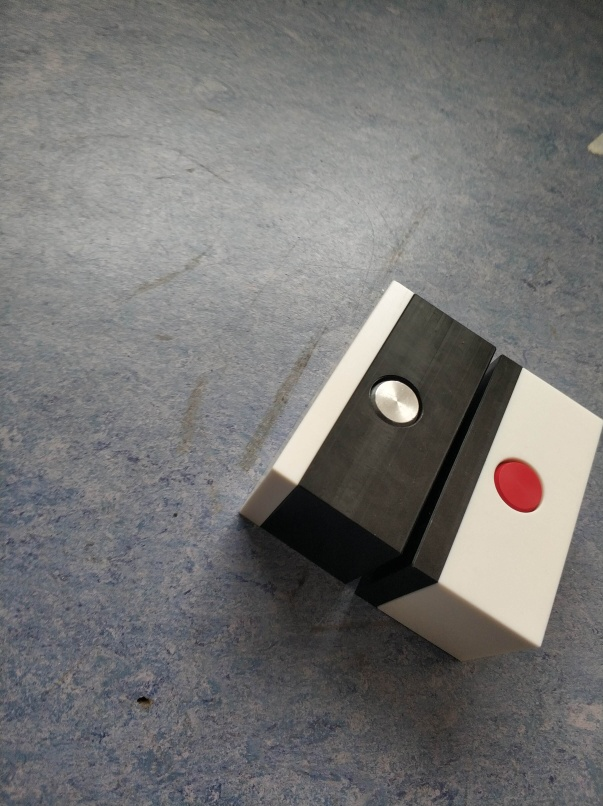black+white+red: (366, 353, 601, 672)
white+black+silver: (233, 273, 500, 590)
